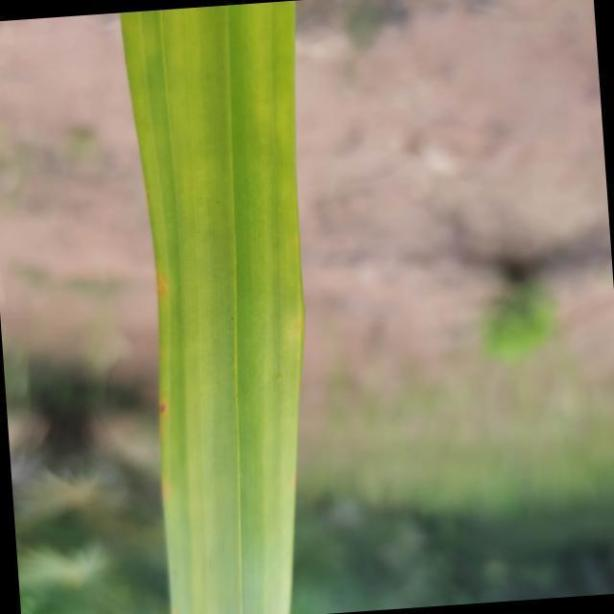nitrogen: (122, 0, 307, 614)
